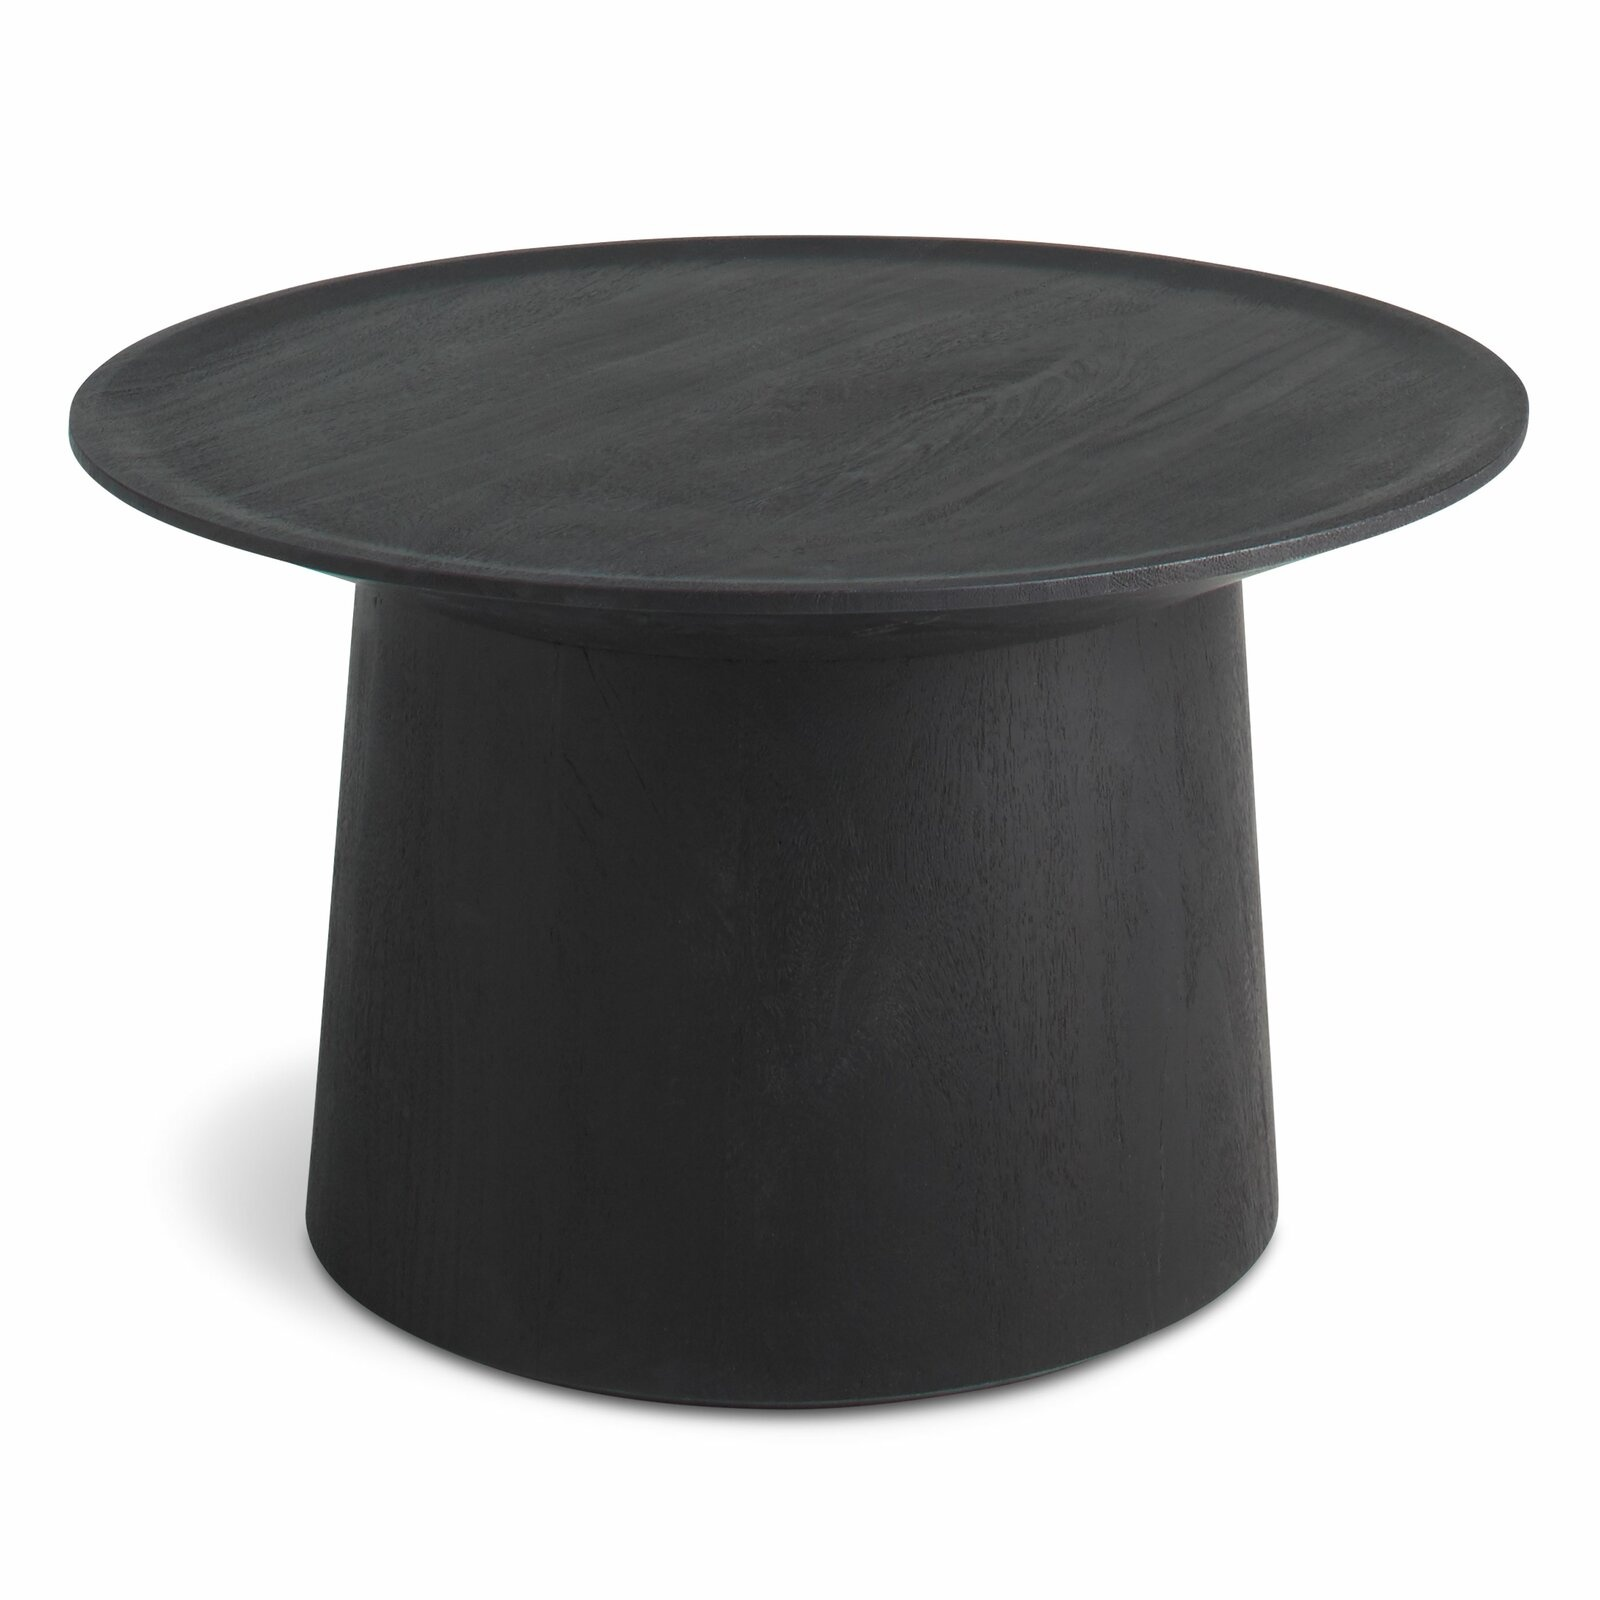obstacle: (70, 237, 1525, 1404)
